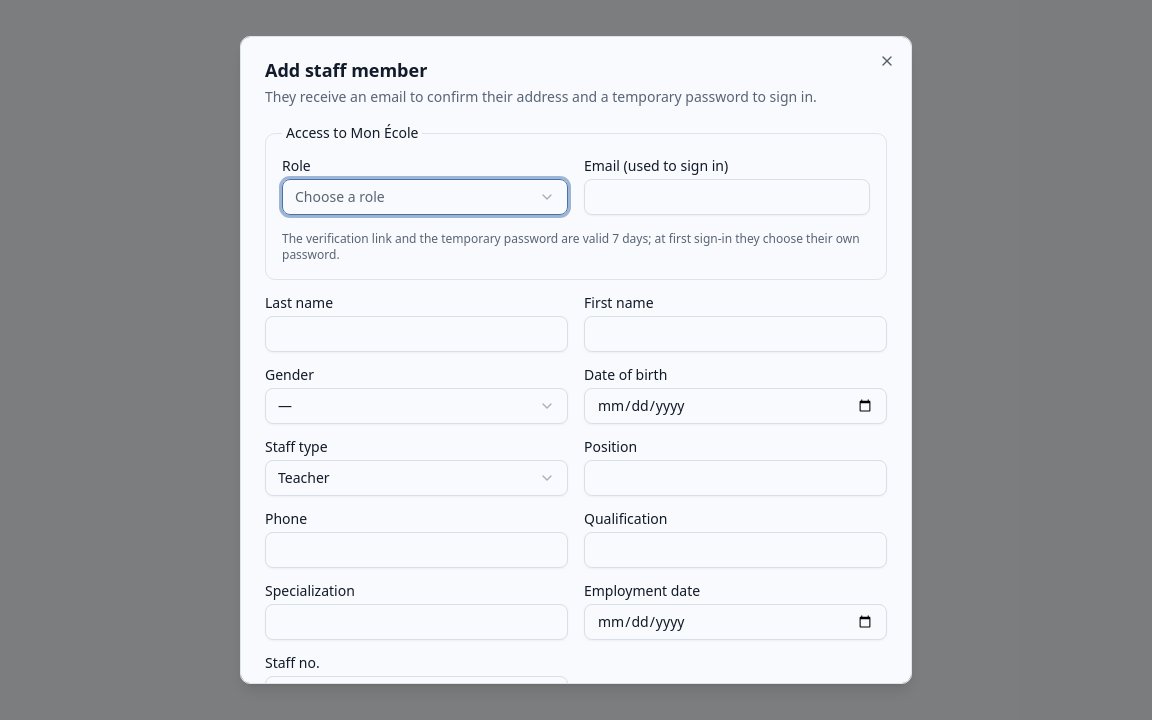
Scenario: StaffFormDialog (adding someone) › never offers the Director or Parent roles
This screenshot has width=1152, height=720.
Click the dropdown labelled "role" at (340,196), box [282,179,568,215]
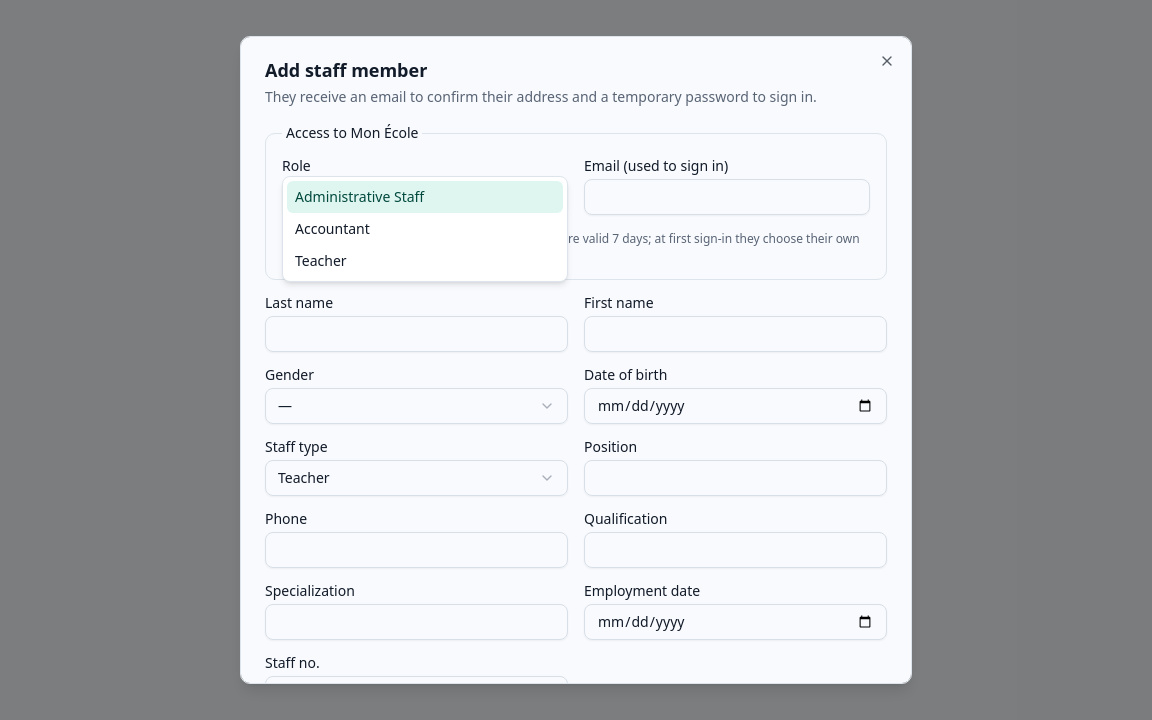
Now the options read "Administrative Staff", "Accountant", "Teacher", in this order, box [287,181,563,213]; [295,219,370,238]; [295,251,347,270]
